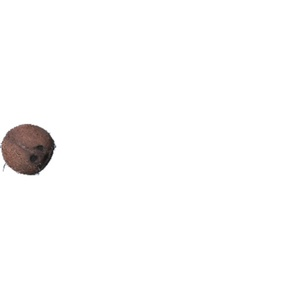coco: (1, 124, 56, 175)
